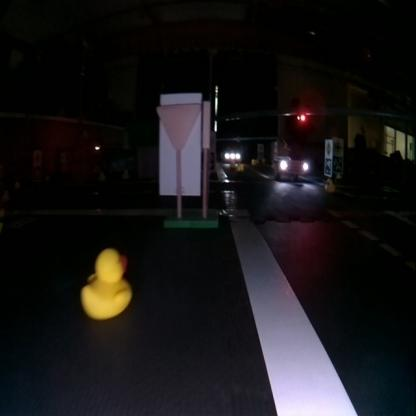Duckie: (81, 247, 131, 319), (324, 178, 334, 192), (237, 163, 244, 171)
Duckiebot: (272, 142, 308, 180), (222, 145, 241, 163)
Intersection sign: (332, 139, 342, 156)
QR code: (332, 157, 340, 171), (324, 160, 331, 174)
Signal sign: (324, 140, 331, 154)
Traffic light: (296, 106, 306, 122)
